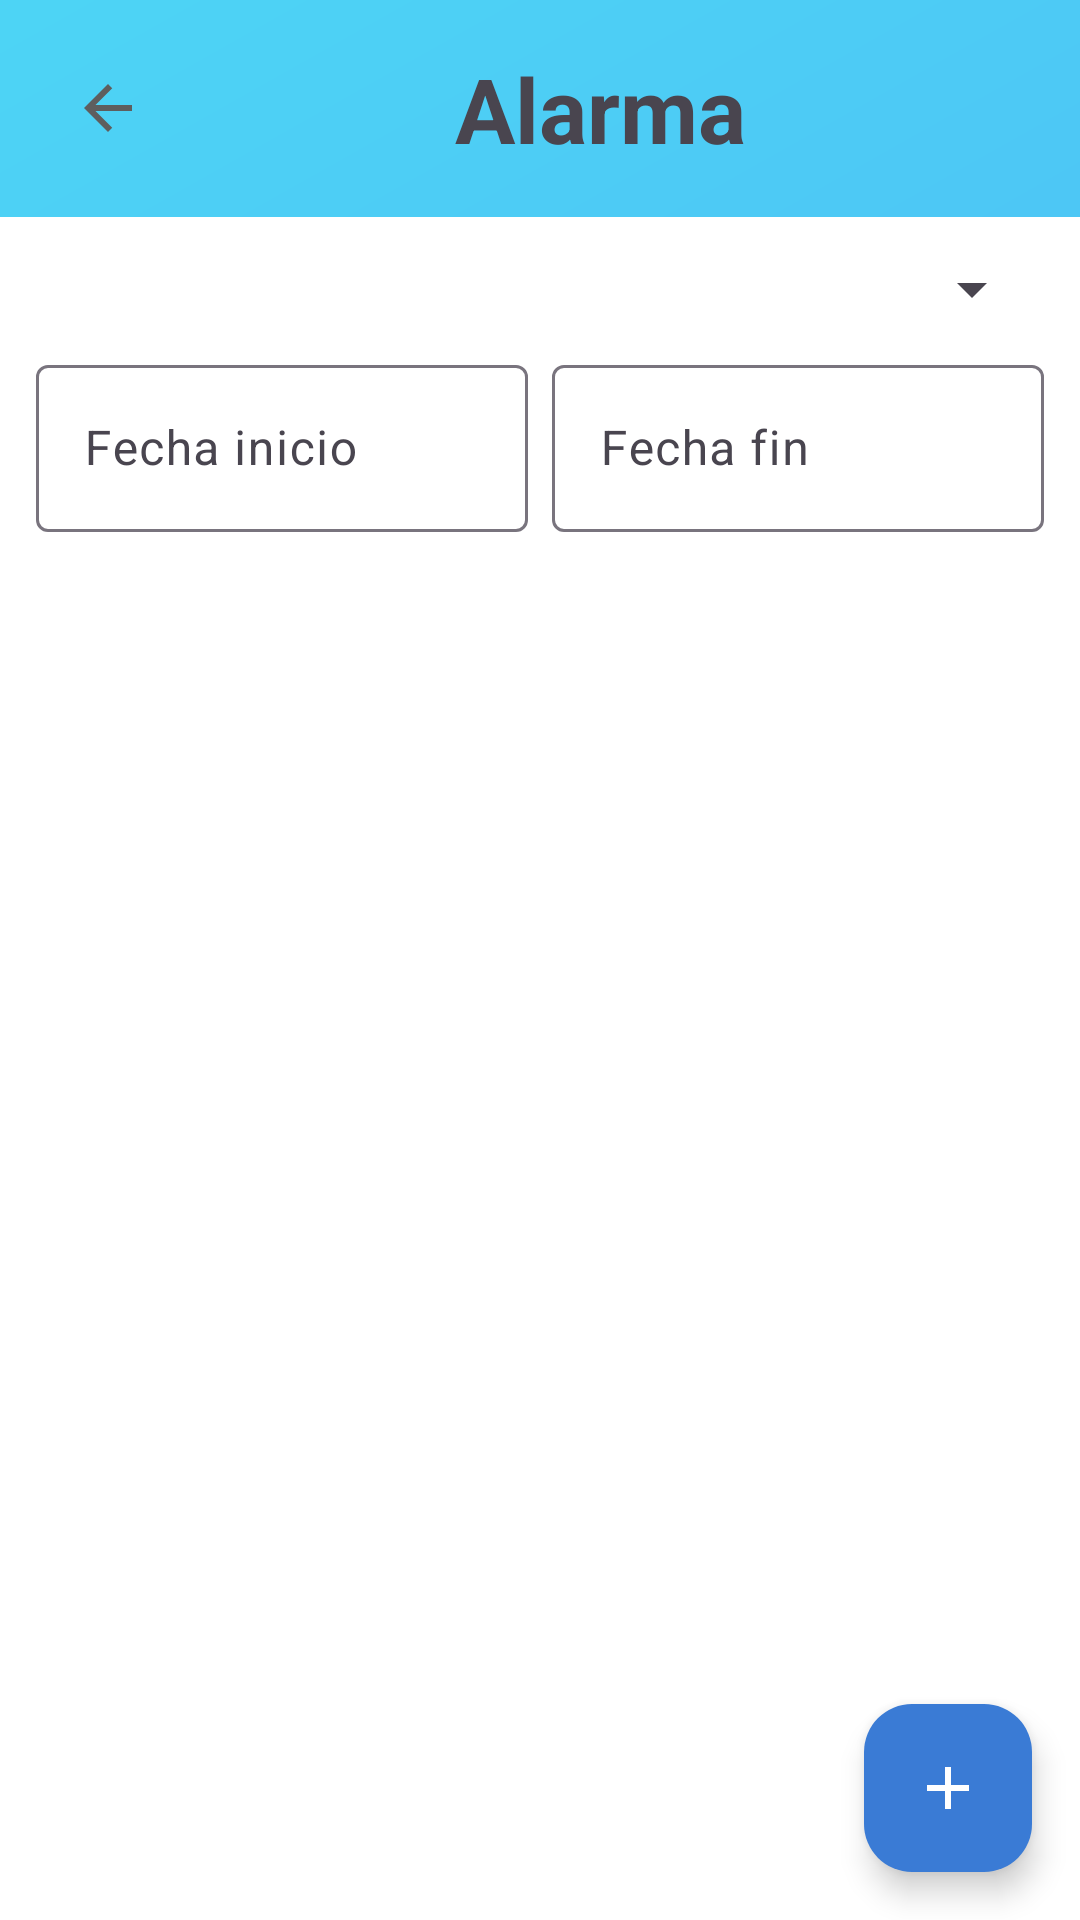

Screen size 1080 × 1920. Icon name, then its box in pixels as (x1, y1, x2, y2):
add: (864, 1704, 1032, 1872)
back: (84, 84, 132, 132)
